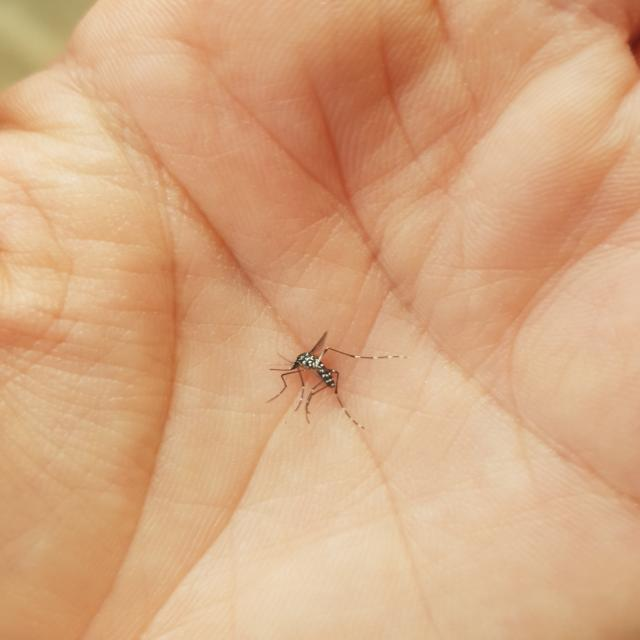albopictus: (260, 329, 408, 430)
